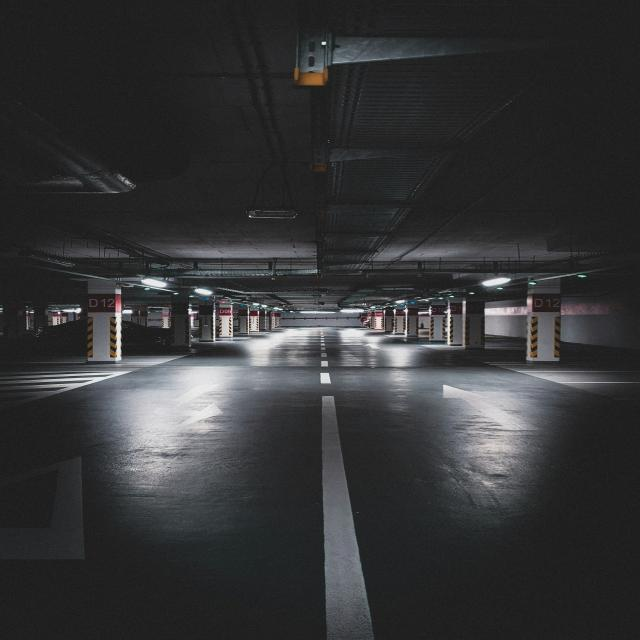pillar: (515, 289, 560, 361), (427, 297, 485, 349), (87, 280, 123, 363), (197, 300, 237, 341), (170, 296, 191, 347), (404, 304, 421, 340), (540, 284, 560, 290)
rebar: (20, 149, 607, 277), (23, 149, 136, 194)
